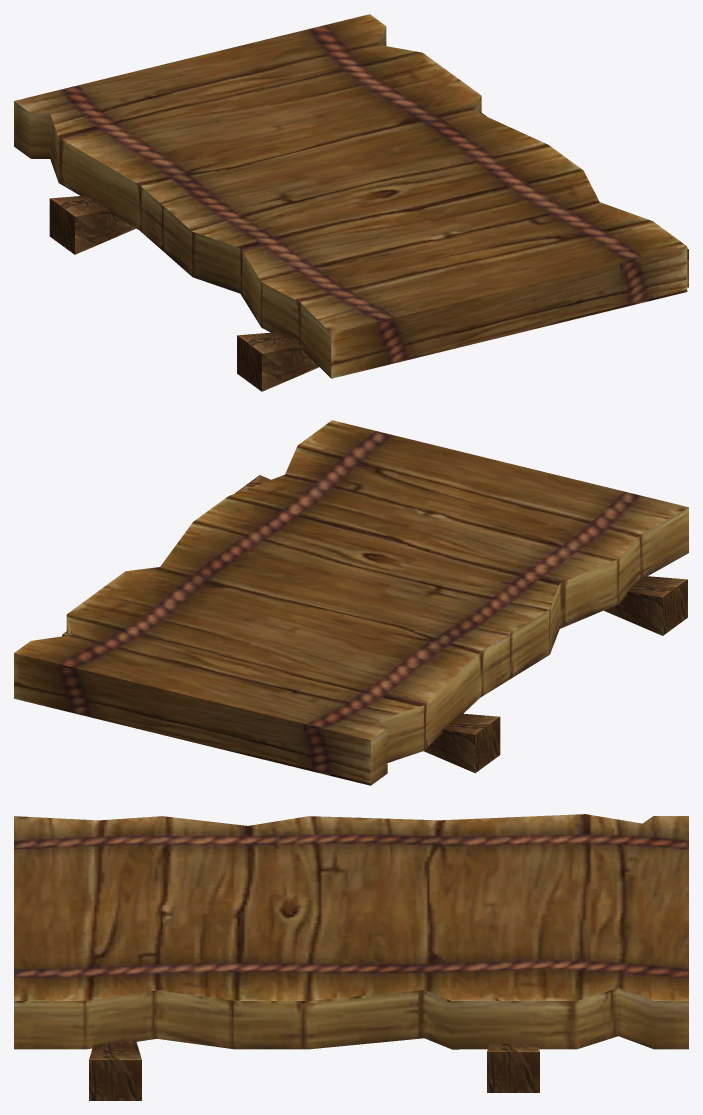
Rendered from environment_Building_qiaoliang_006_e.FBX.
3 renders of one model, top to bottom at view 1: azimuth 30°, elevation 25°; view 2: azimuth 150°, elevation 25°; view 3: azimuth 270°, elevation 25°, orthographic. The views are drawn at different scales.
Visible parts, largest first — view 1: environment_Building_qiaoliang_006_e; view 2: environment_Building_qiaoliang_006_e; view 3: environment_Building_qiaoliang_006_e.
Part boxes in pixels (x1,y1,x2,y2): environment_Building_qiaoliang_006_e: (14, 14, 688, 391); environment_Building_qiaoliang_006_e: (14, 420, 688, 785); environment_Building_qiaoliang_006_e: (14, 814, 688, 1100).
Bounding box in the file's own units: 342 × 58.23 × 441.
